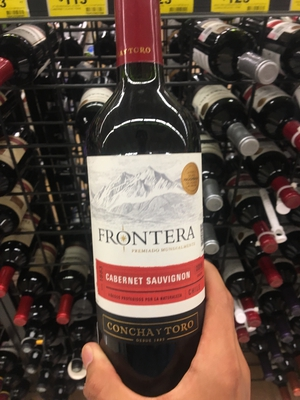frontera cabernet sauvignon: (69, 16, 221, 389)
